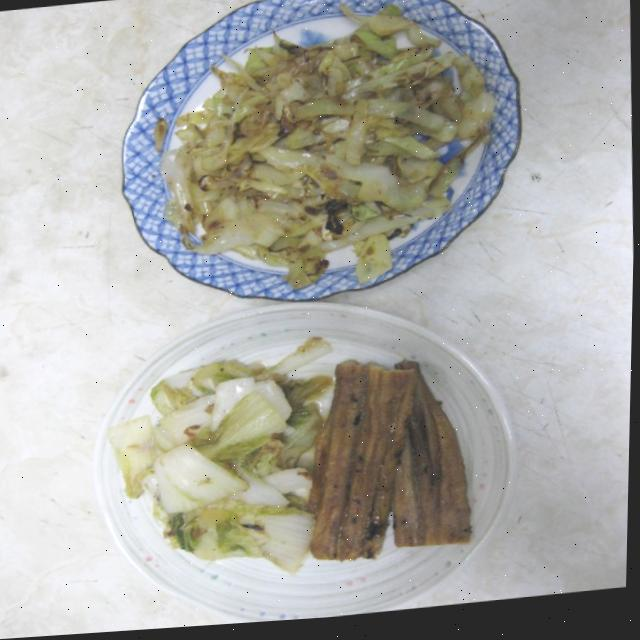蔬菜料理: (192, 33, 455, 274)
